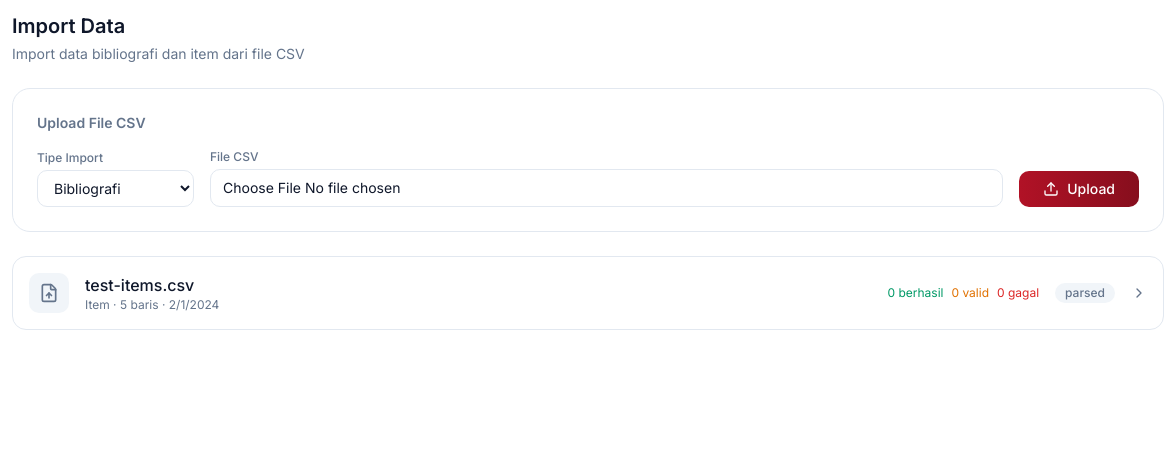
it: ImportSection Batch Detail › should show validate button for parsed status
The image size is (1176, 467).
What coordinates should you click on to do the following:
click the text "test-items.csv"
I would click on:
 (140, 285)
Its box is [85,275,194,295].
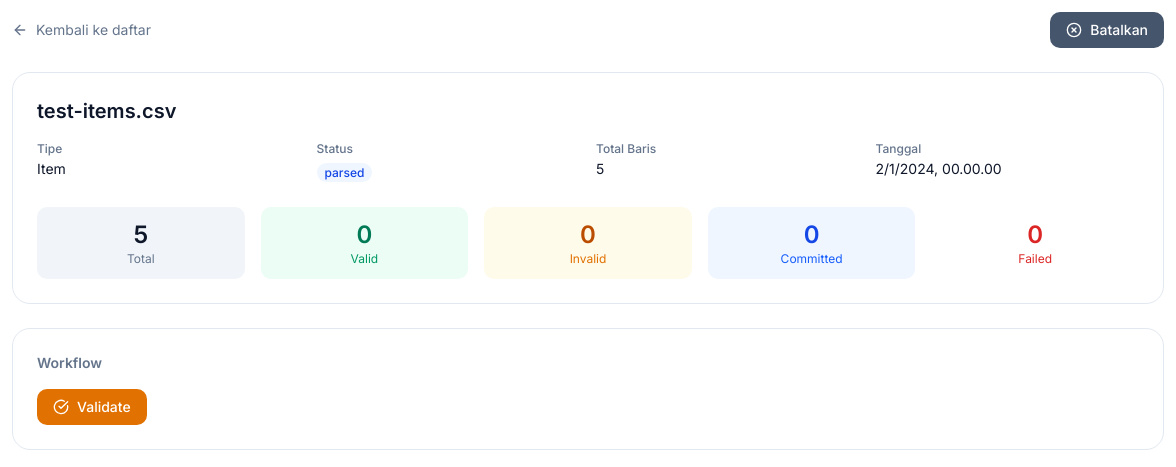
Check: the button "Validate" is shown, box [37,389,147,425]
